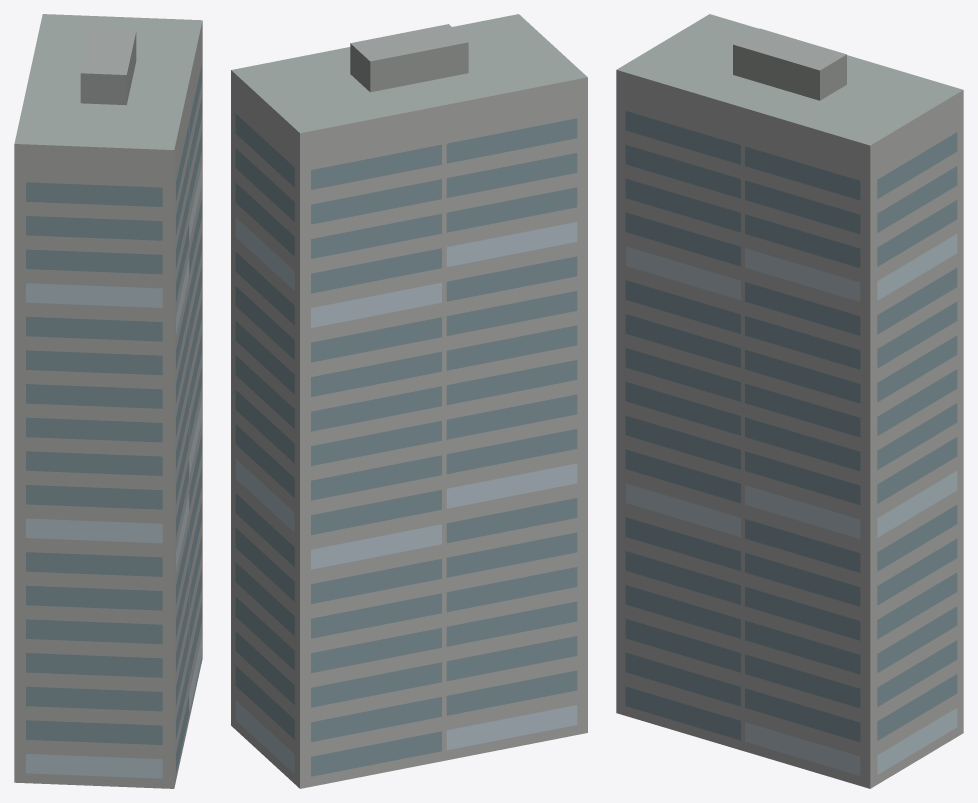
The model's file is fallback-jamsil-trizium-324.glb.
3 views of the same model, side by side, from view 1: azimuth 30°, elevation 25°; view 2: azimuth 150°, elevation 25°; view 3: azimuth 270°, elevation 25° (orthographic). The views are drawn at different scales.
Visible parts, largest first — view 1: fallback-jamsil-trizium-324; view 2: fallback-jamsil-trizium-324; view 3: fallback-jamsil-trizium-324.
Boxes of the visible parts, bbox=[...] form: fallback-jamsil-trizium-324: bbox=[14, 14, 202, 788]; fallback-jamsil-trizium-324: bbox=[231, 14, 587, 788]; fallback-jamsil-trizium-324: bbox=[616, 14, 963, 788].
Size of the model in its own units: 22.21 by 53 by 24.76.
